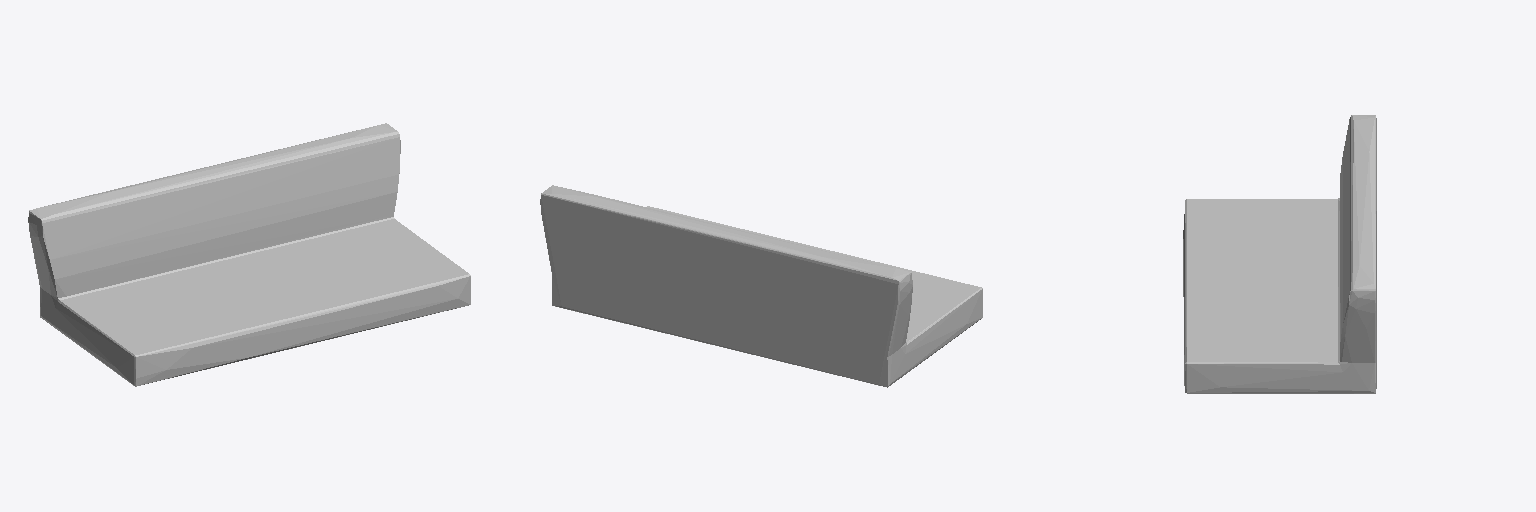
Rendered from frame.obj.
3 views of the same model, side by side, from view 1: azimuth 30°, elevation 25°; view 2: azimuth 150°, elevation 25°; view 3: azimuth 270°, elevation 25° (orthographic).
Size of the model in its own units: 10.86 by 3.22 by 5.04.